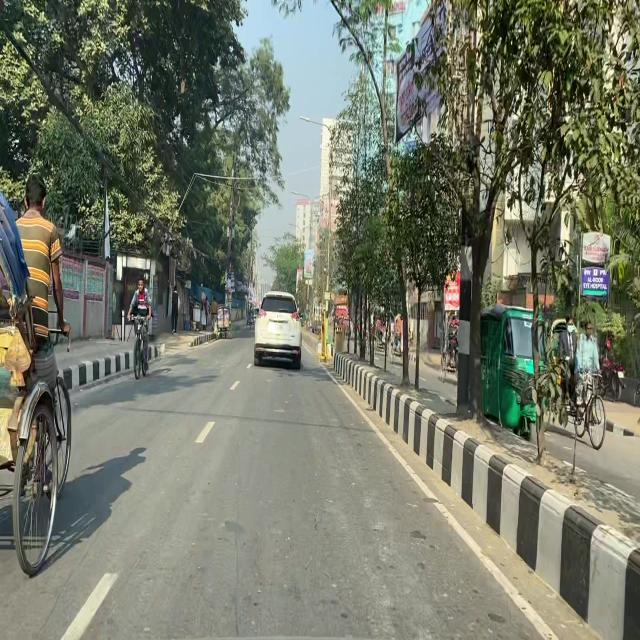car: (253, 290, 304, 372)
motorbike: (590, 338, 627, 404)
